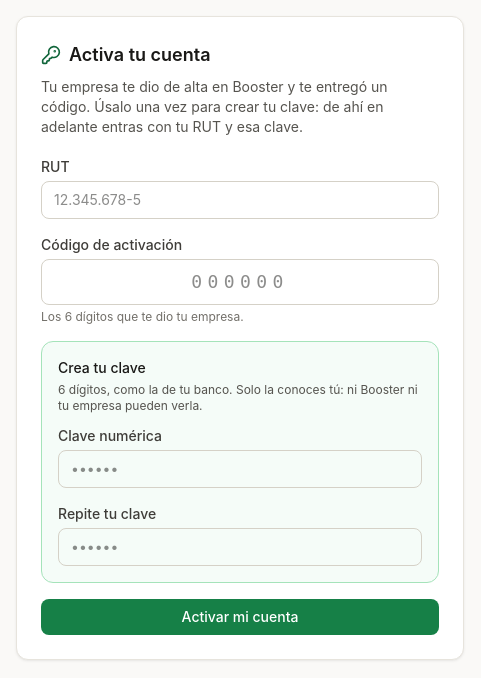
Test: Activar cuenta › si la activación funciona pero no llega la sesión, guía al login
The width and height of the screenshot is (481, 678).
In the field labelled "RUT": (240, 200) top-left (41, 181), bottom-right (439, 219), type "8.601.693-1"
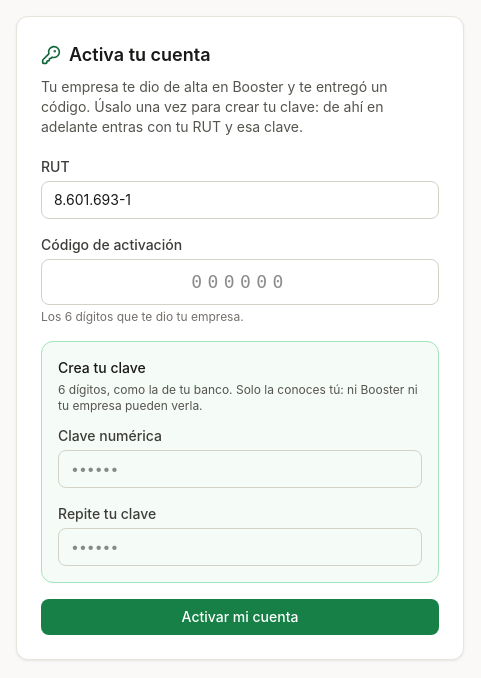
In the field labelled "Código de activación Los 6 dígitos que te dio tu empresa.": (240, 282) top-left (41, 259), bottom-right (439, 305), type "135790"
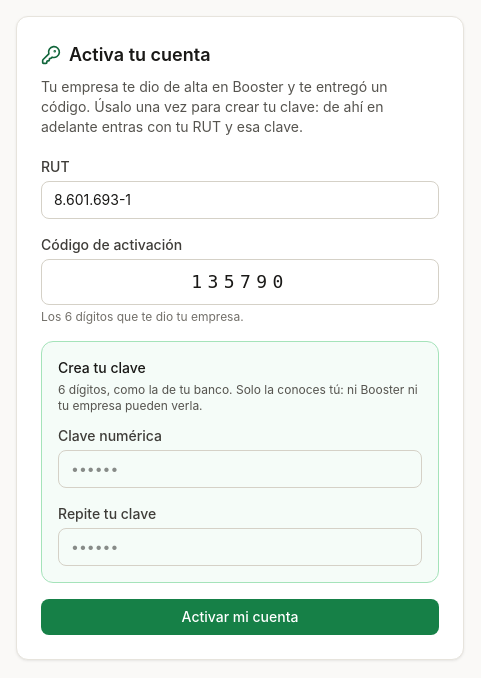
In the password field labelled "Clave numérica": (240, 469) top-left (58, 450), bottom-right (422, 488), type "482915"
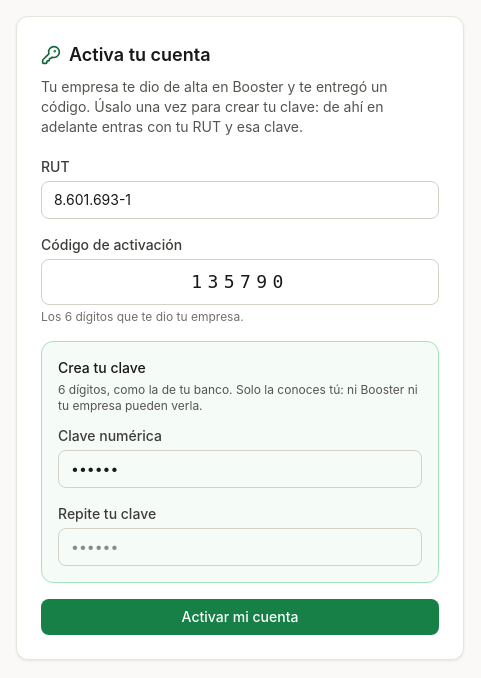
In the password field labelled "Repite tu clave": (240, 547) top-left (58, 528), bottom-right (422, 566), type "482915"
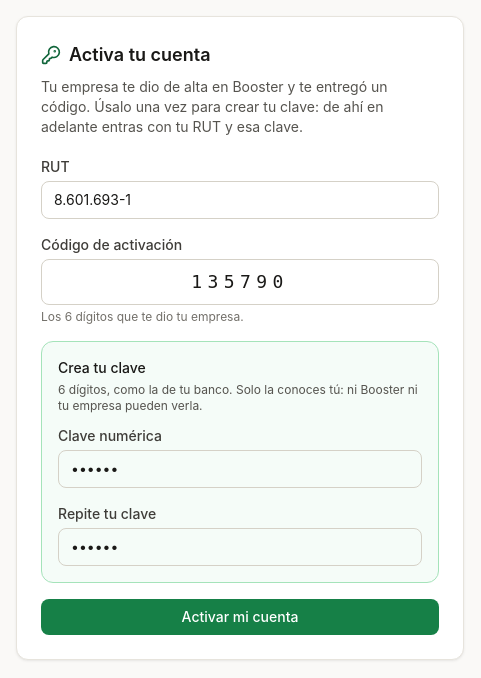
Click the button "Activar mi cuenta": (240, 617) top-left (41, 599), bottom-right (439, 635)
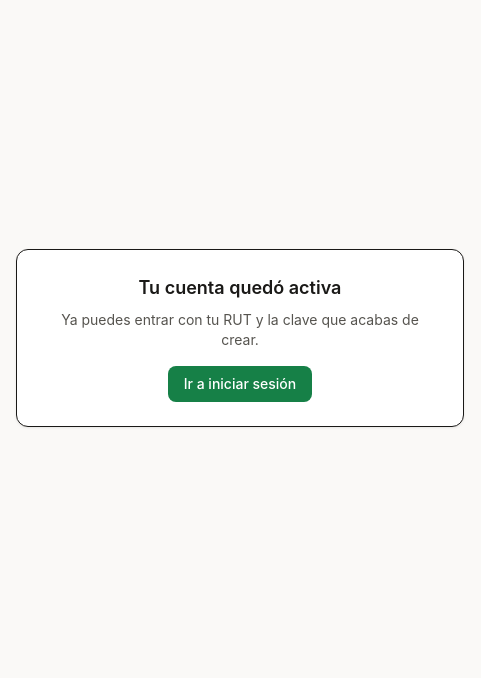
Now the text "Ya puedes entrar con tu RUT y la clave que acabas de crear." is shown, box top-left (41, 310), bottom-right (439, 350)
